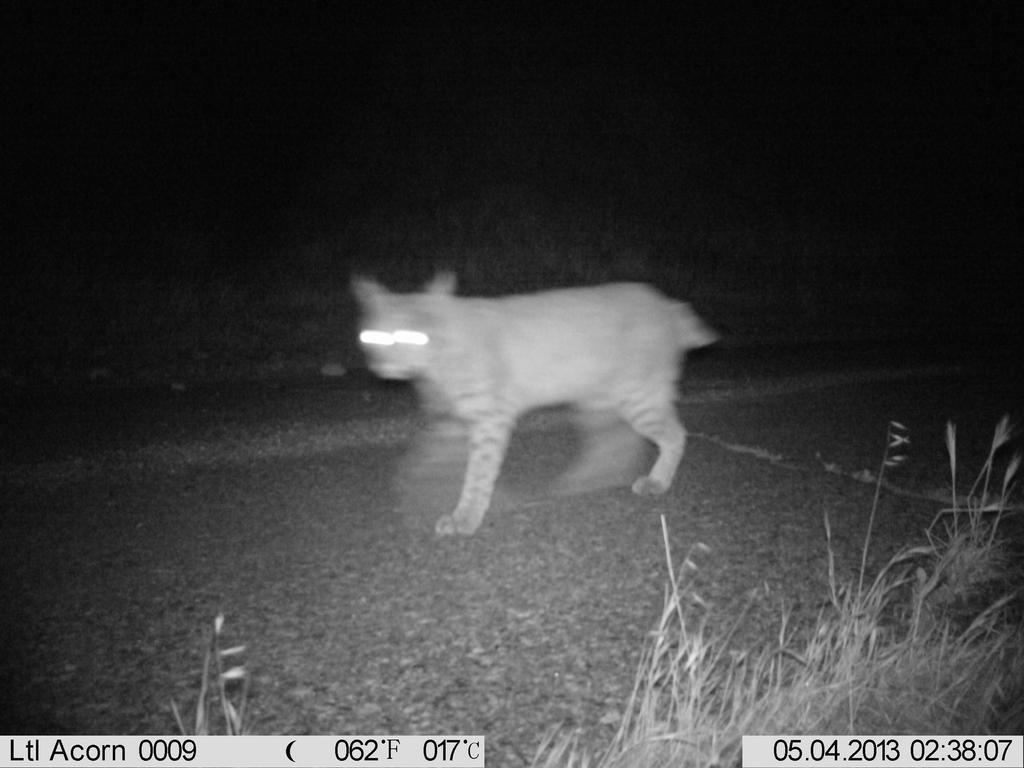bobcat: (353, 264, 729, 545)
